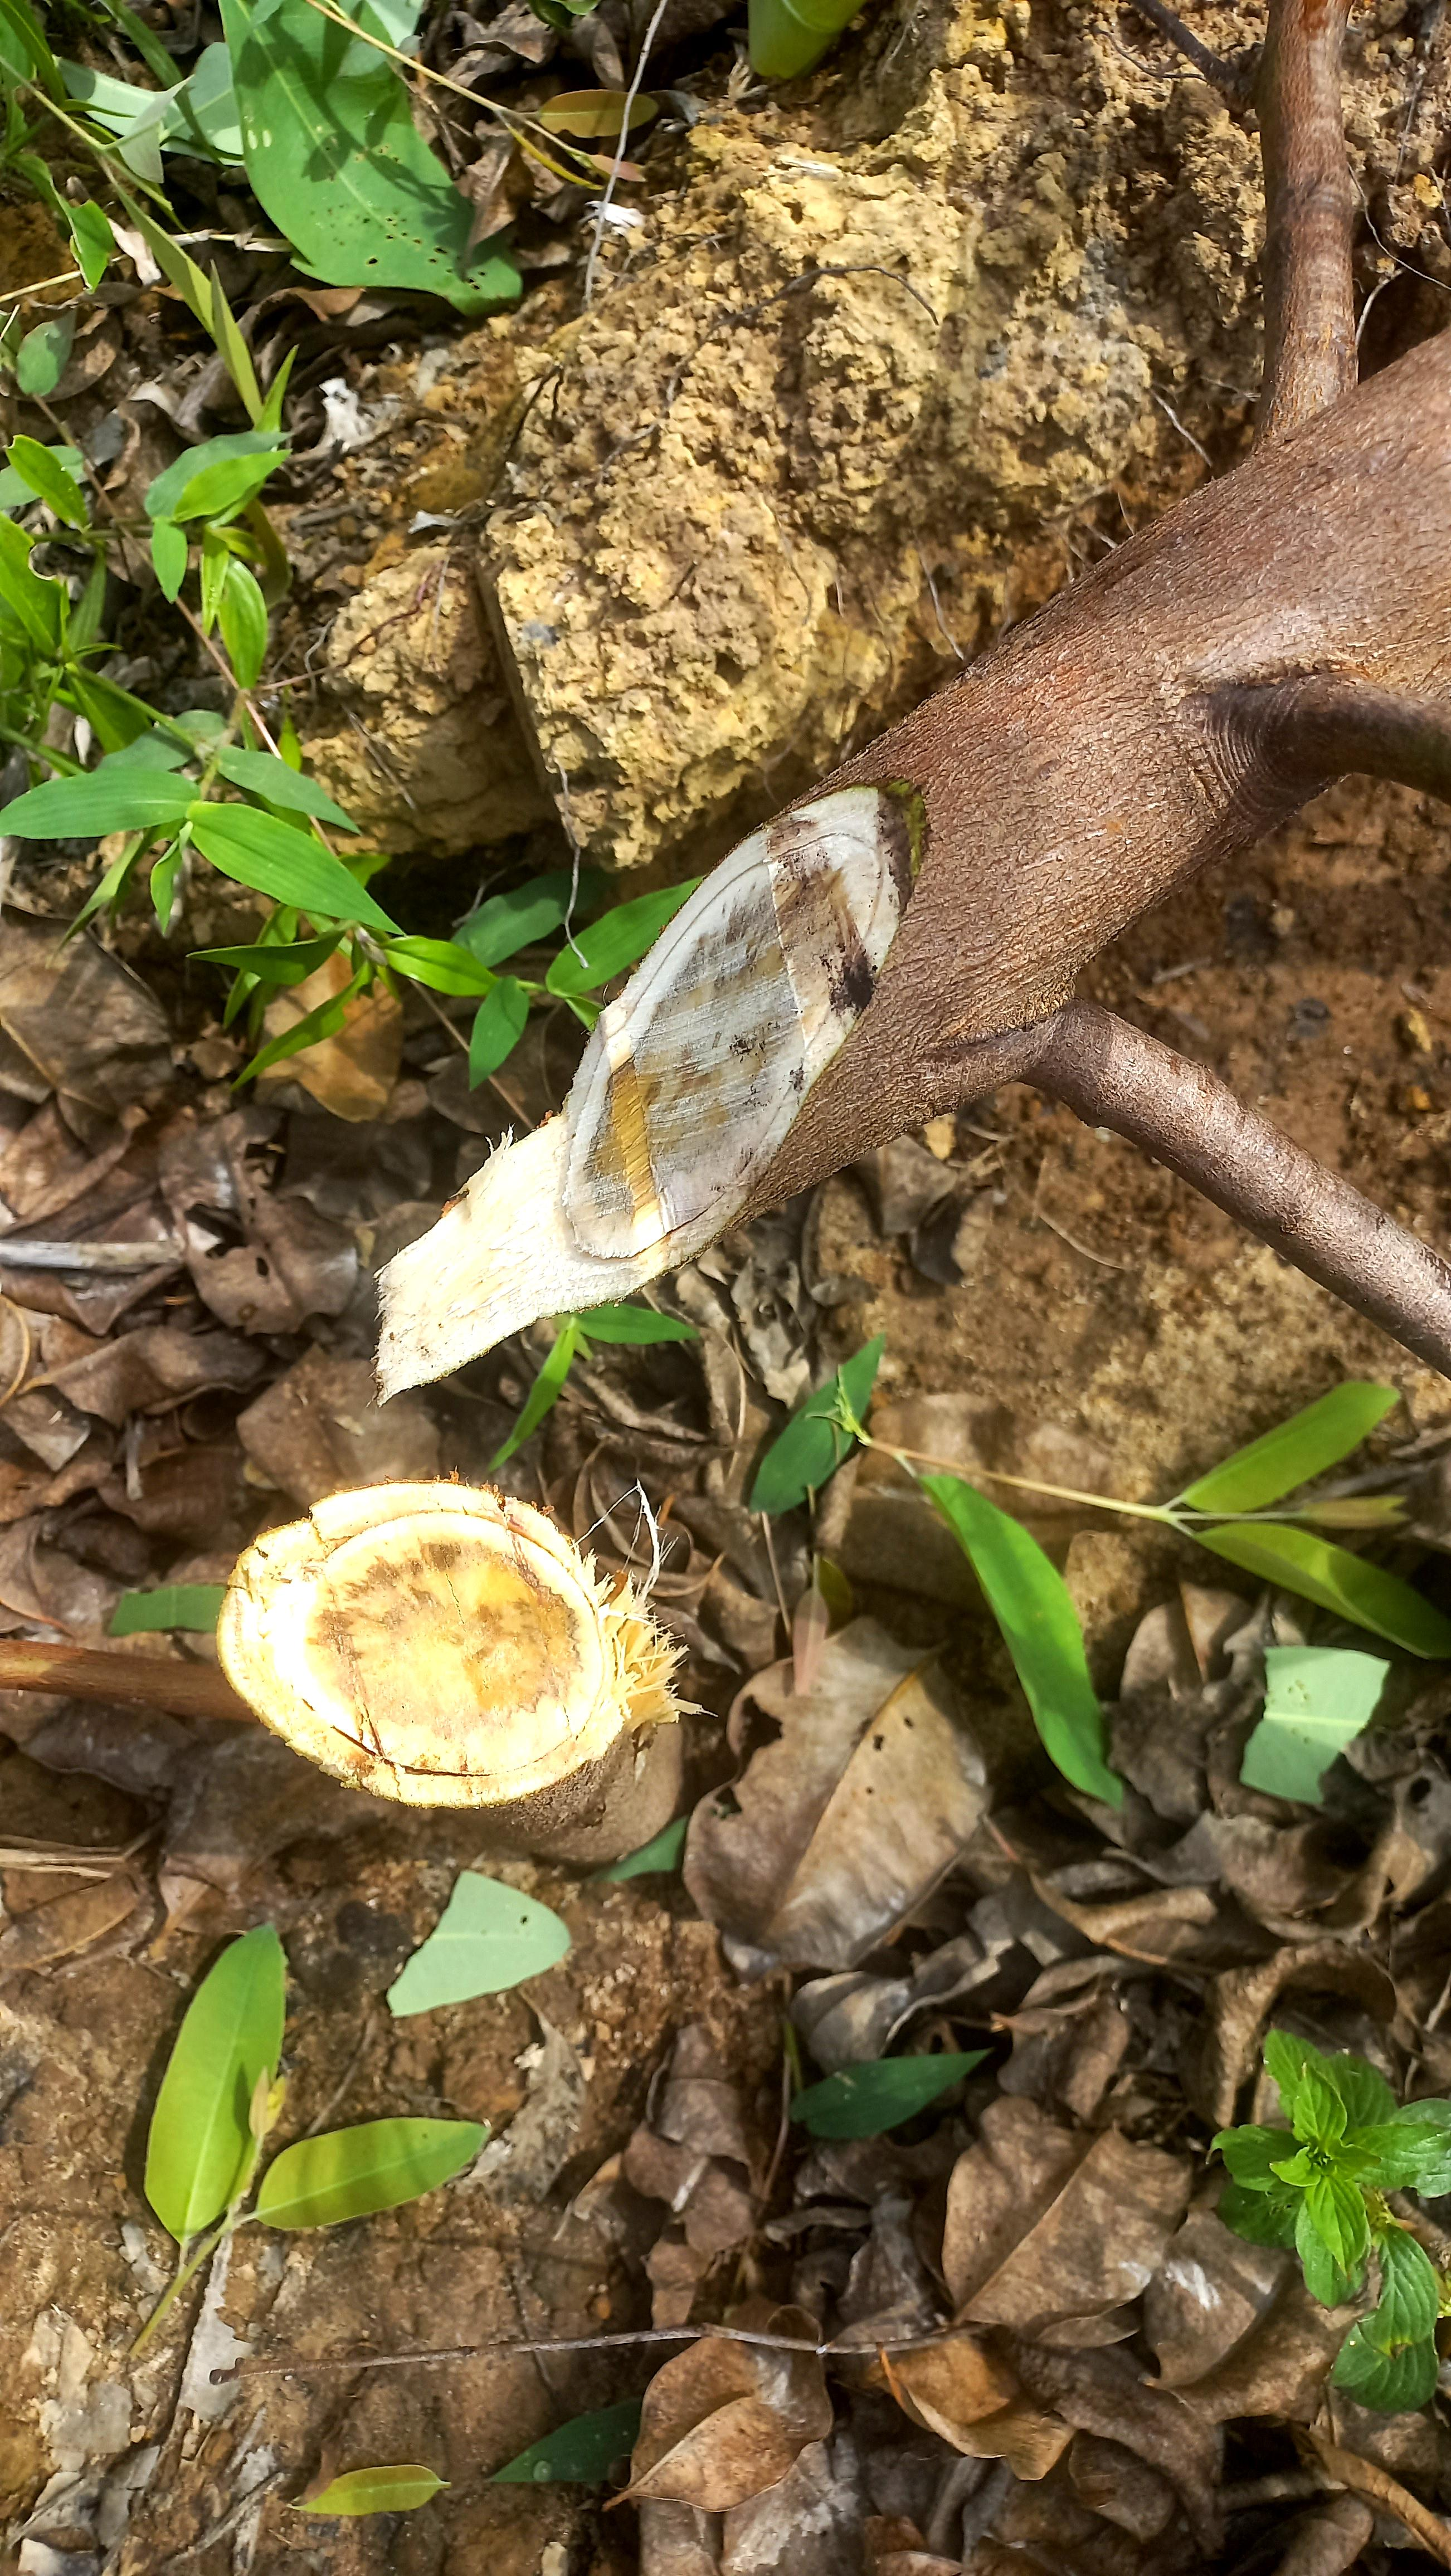Ralstonia: (596, 929, 789, 1254)
